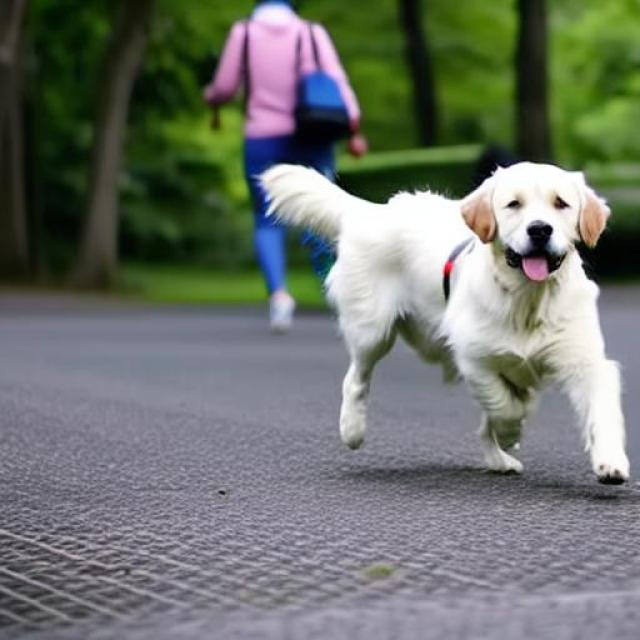Unleashed_Dog: (249, 112, 632, 486)
